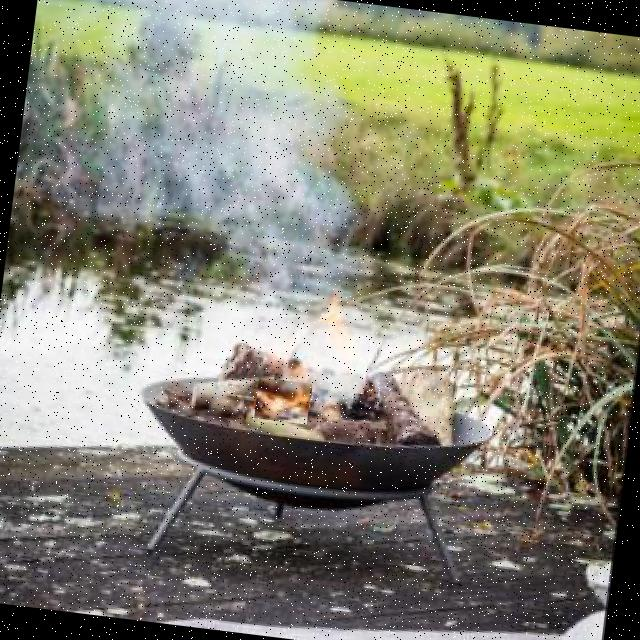fire: (273, 294, 374, 394), (254, 377, 312, 424)
